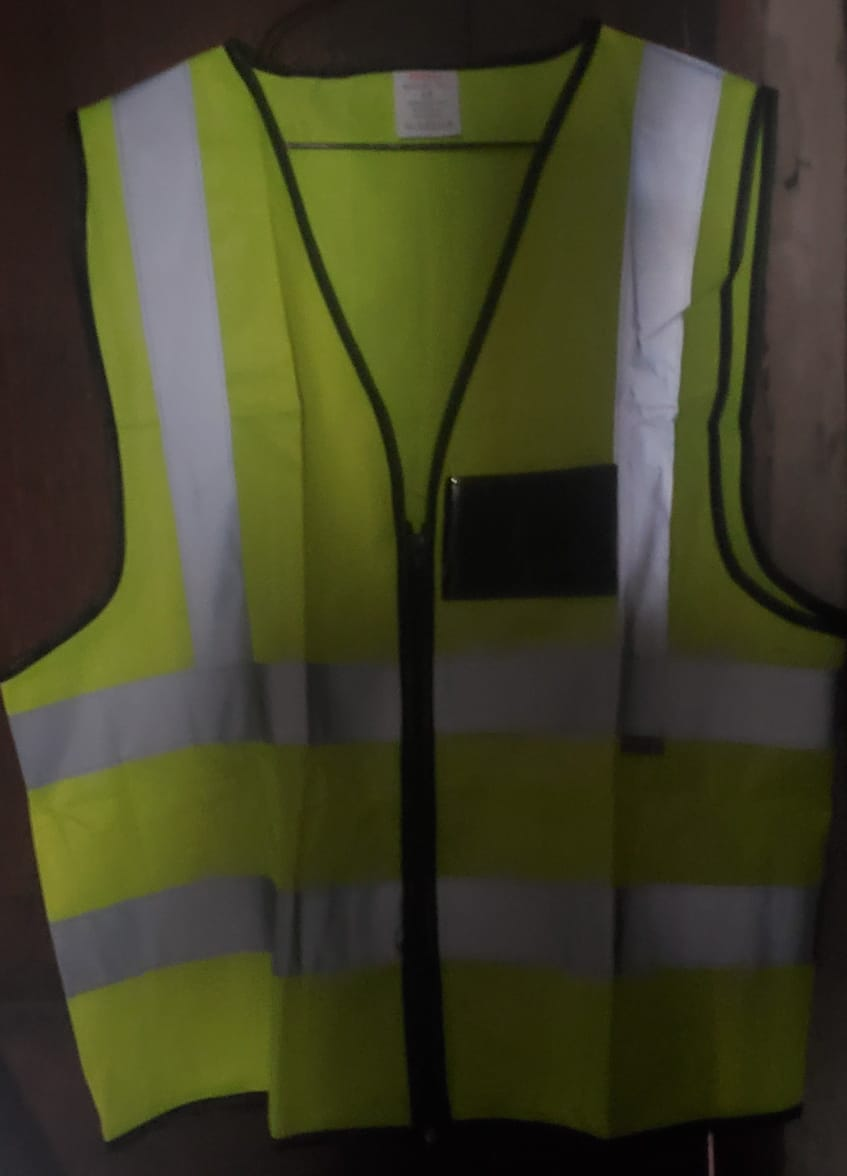vest: (13, 28, 847, 1148)
